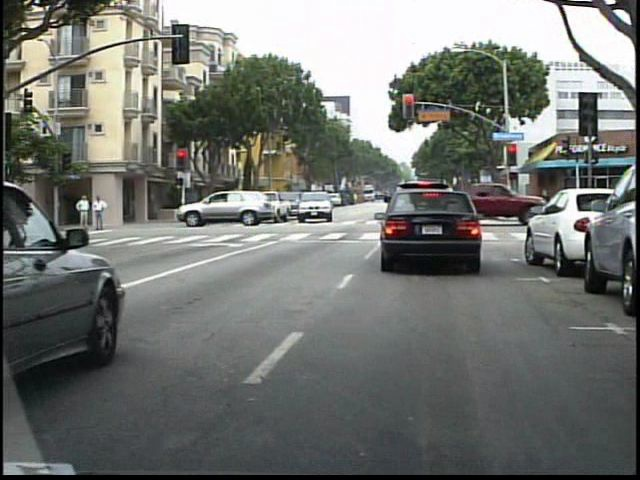person: (71, 190, 88, 233), (88, 191, 104, 232)
